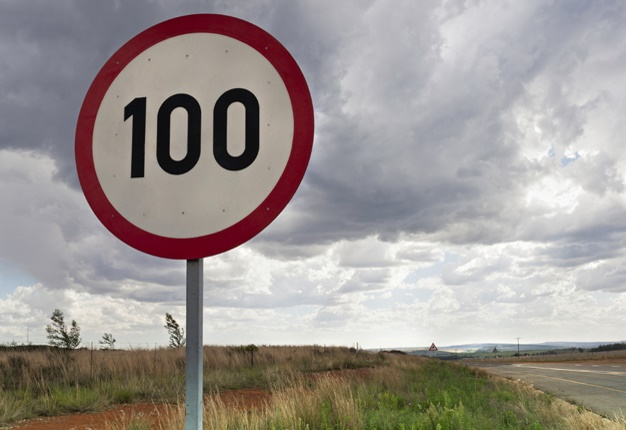Speed_limit_100km: (72, 13, 317, 262)
